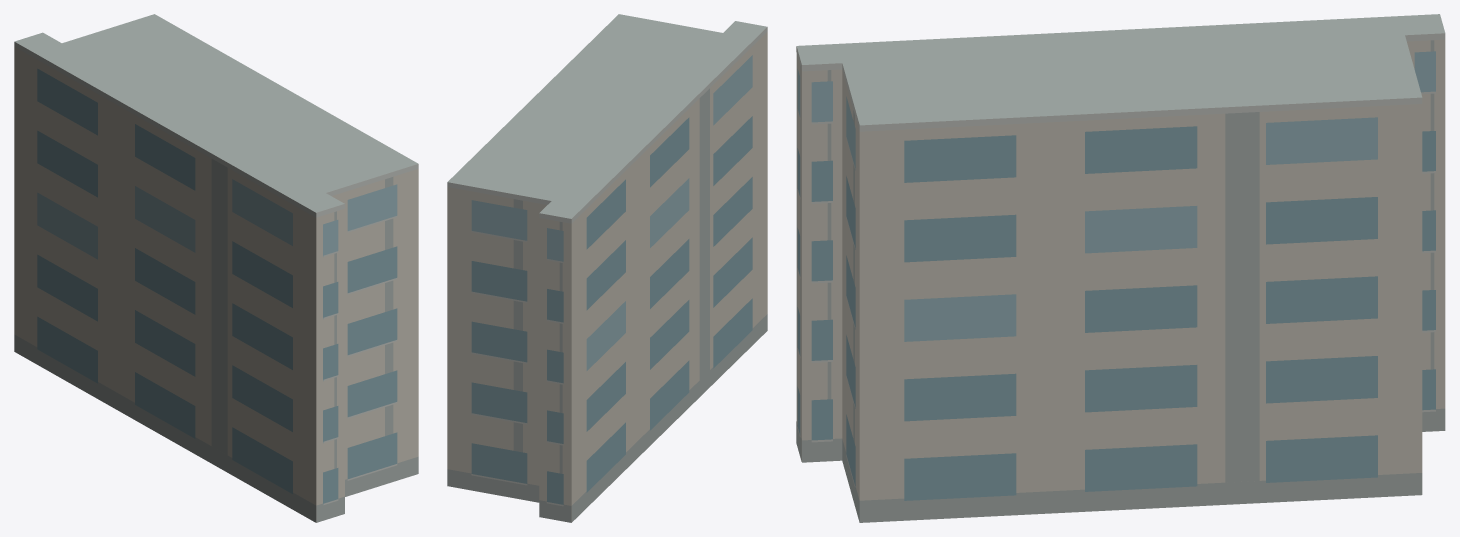
Rendered from survey-upis-32611696.glb.
3 views of the same model, side by side, from view 1: azimuth 30°, elevation 25°; view 2: azimuth 150°, elevation 25°; view 3: azimuth 270°, elevation 25° (orthographic). The views are drawn at different scales.
Parts seen in each view (by area): view 1: survey-upis-32611696.tmp; view 2: survey-upis-32611696.tmp; view 3: survey-upis-32611696.tmp.
Boxes of the visible parts, bbox=[...] form: survey-upis-32611696.tmp: bbox=[14, 14, 418, 522]; survey-upis-32611696.tmp: bbox=[447, 14, 767, 522]; survey-upis-32611696.tmp: bbox=[796, 14, 1445, 522].
Bounding box in the file's own units: 9.17 × 15.25 × 22.57.
